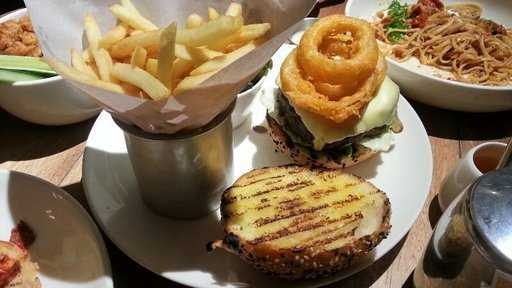hamburger: (223, 22, 422, 263)
